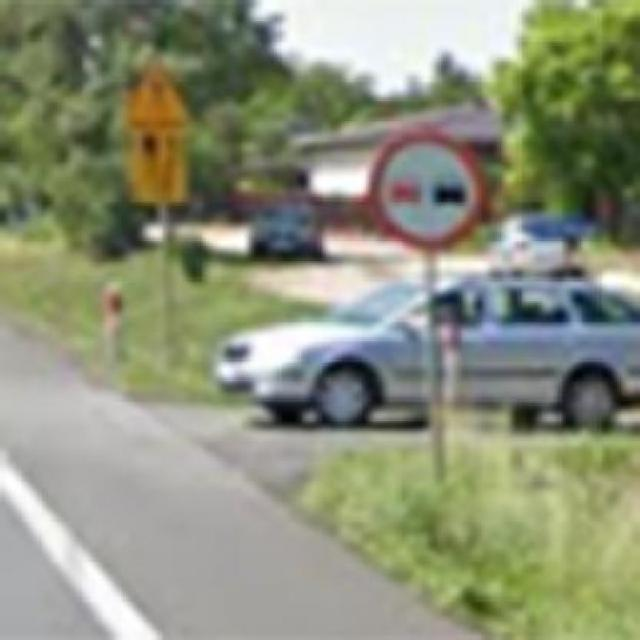Zakaz wyprzedzania: (365, 125, 487, 252)
